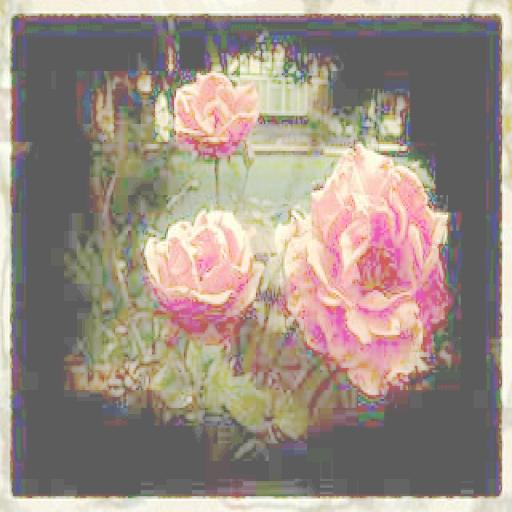rose: (282, 144, 448, 395), (146, 210, 262, 322), (173, 71, 261, 151)
